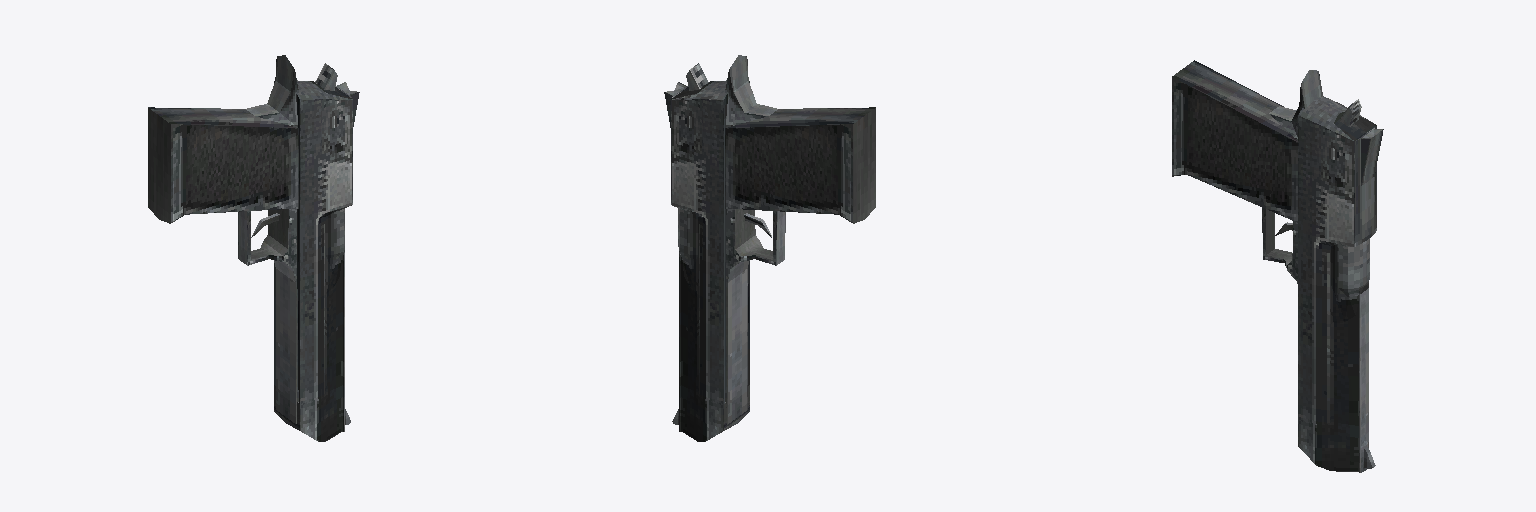
3 views of the same model, side by side, from view 1: azimuth 30°, elevation 25°; view 2: azimuth 150°, elevation 25°; view 3: azimuth 330°, elevation 25° (orthographic).
Parts seen in each view (by area): view 1: deserteagle.deserteagle.smd.mesh_0; view 2: deserteagle.deserteagle.smd.mesh_0; view 3: deserteagle.deserteagle.smd.mesh_0.
Boxes of the visible parts, <box> form: deserteagle.deserteagle.smd.mesh_0: <box>148,55,359,441</box>; deserteagle.deserteagle.smd.mesh_0: <box>664,55,875,441</box>; deserteagle.deserteagle.smd.mesh_0: <box>1172,60,1383,472</box>.
Bounding box in the file's own units: 6.99 × 13.36 × 1.61.
1 materials, 1 textured.